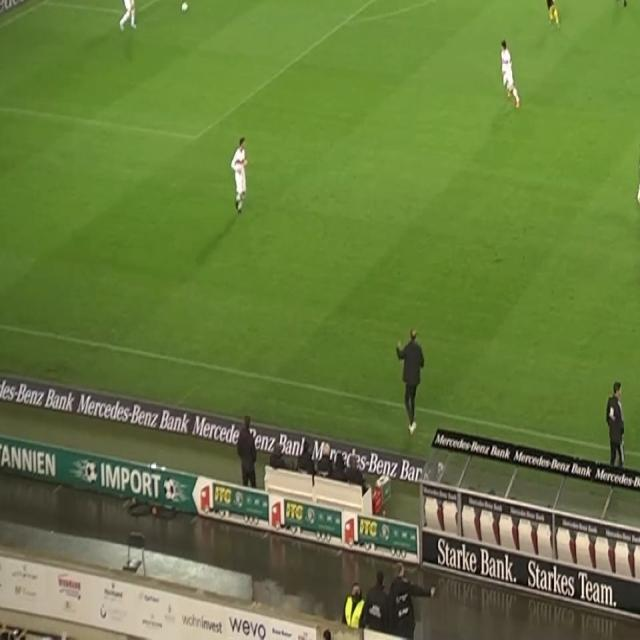ball: (181, 0, 188, 13)
